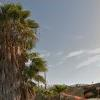Palm tree: (2, 0, 48, 93)
